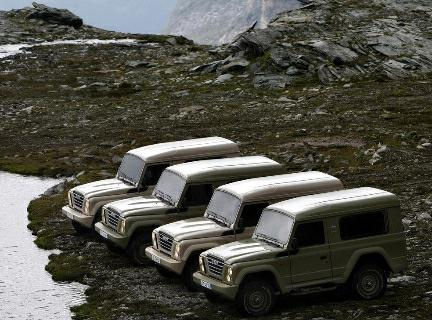依维柯-Campagnola: (199, 195, 408, 304), (60, 130, 245, 232), (160, 174, 338, 276), (95, 156, 286, 250)
